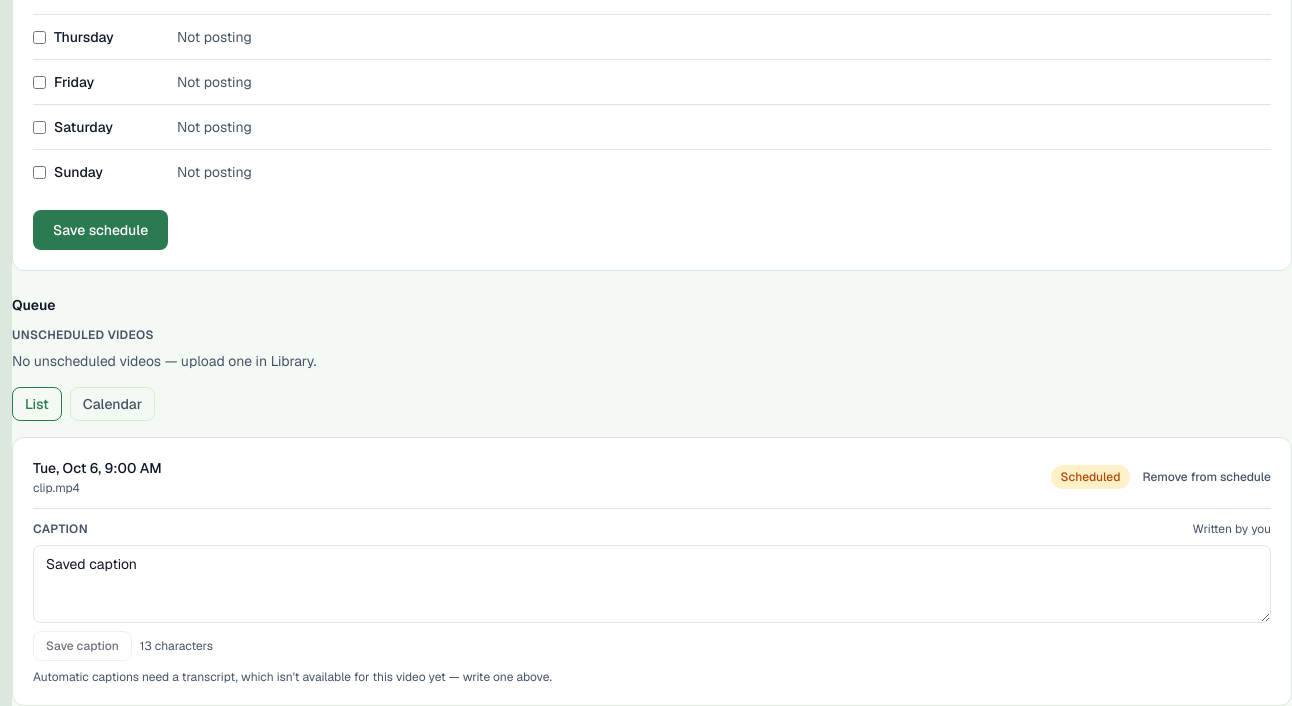
QueuePage — Queue (list/calendar, assign/unassign) › saves an edited caption and keeps the saved value
(page scrolled)
Replace the text in the text box labelled "Caption" with "New caption #fyp" at (652, 584), box [33, 545, 1271, 623]
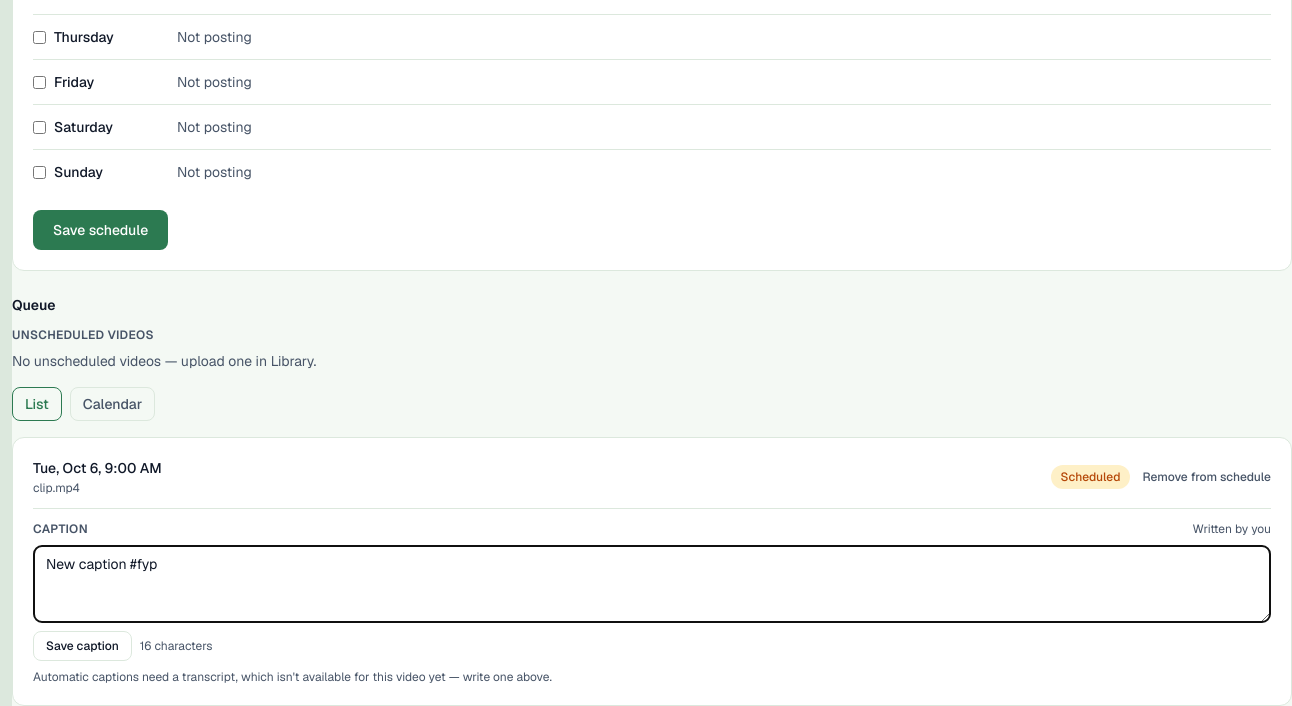
Click the button "Save caption" at (82, 646), box [33, 631, 132, 661]
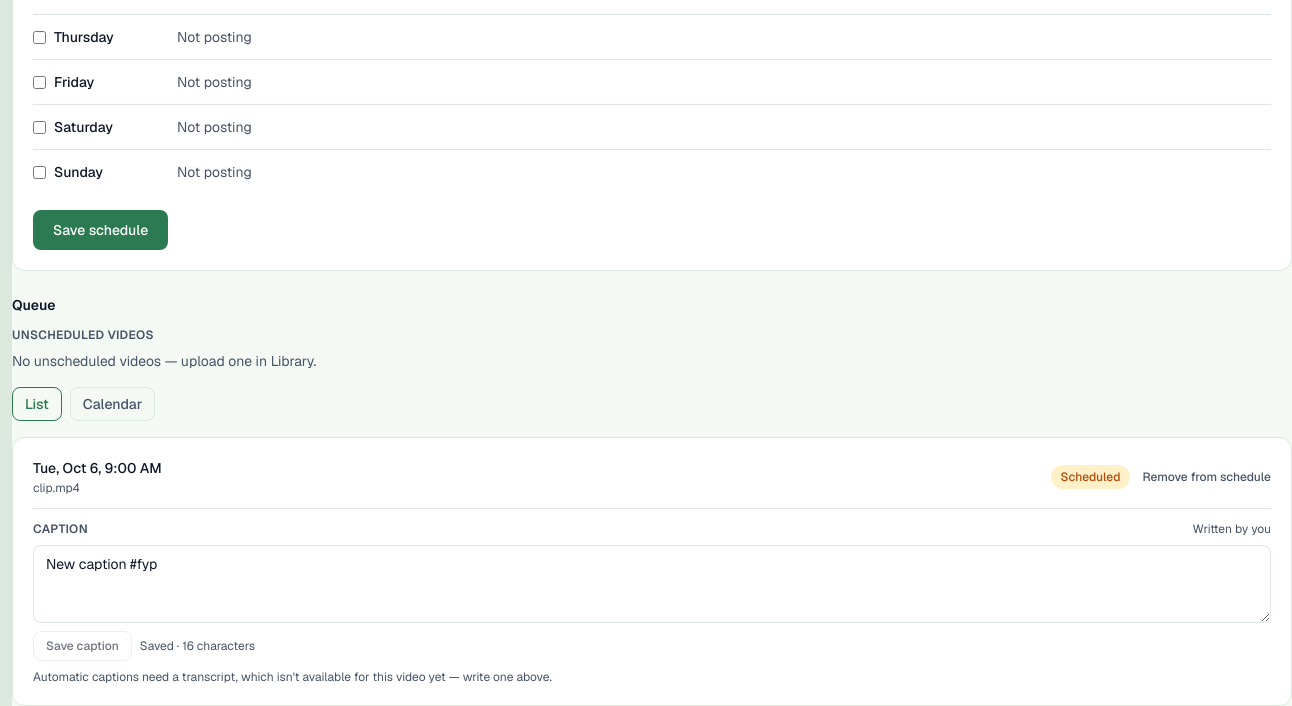
Now the text "Saved · 16 characters" is shown, box [140, 638, 255, 654]
Now the button "Save caption" is disabled, box [33, 631, 132, 661]
